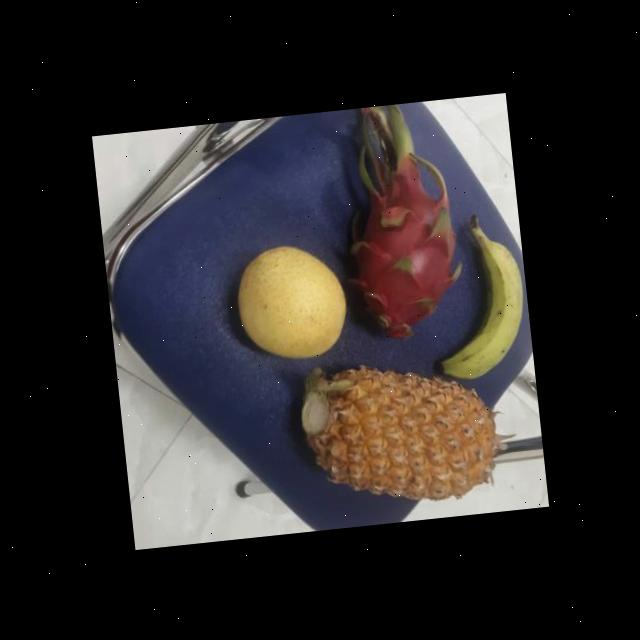banana: (428, 224, 532, 383)
pear: (230, 238, 355, 368)
pineapple: (294, 351, 504, 520)
pitaya: (334, 165, 469, 352)
